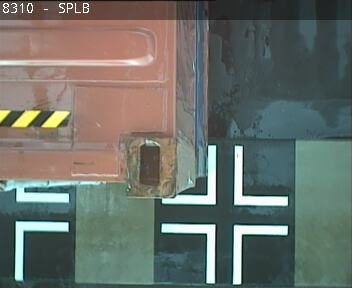groundmarker_1: (159, 145, 288, 205), (160, 224, 288, 283), (14, 186, 69, 280)
